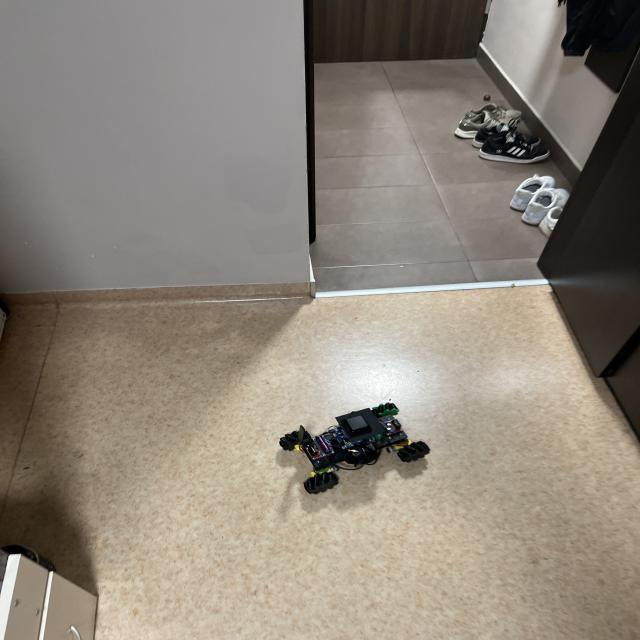robot: (279, 402, 430, 494)
